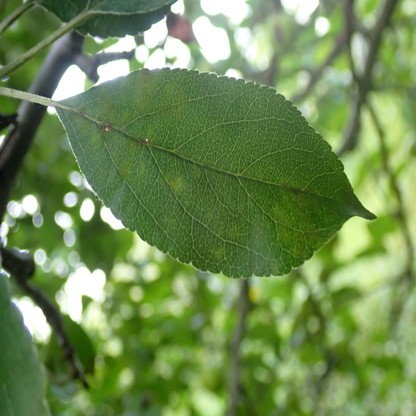scab: (77, 72, 326, 273)
